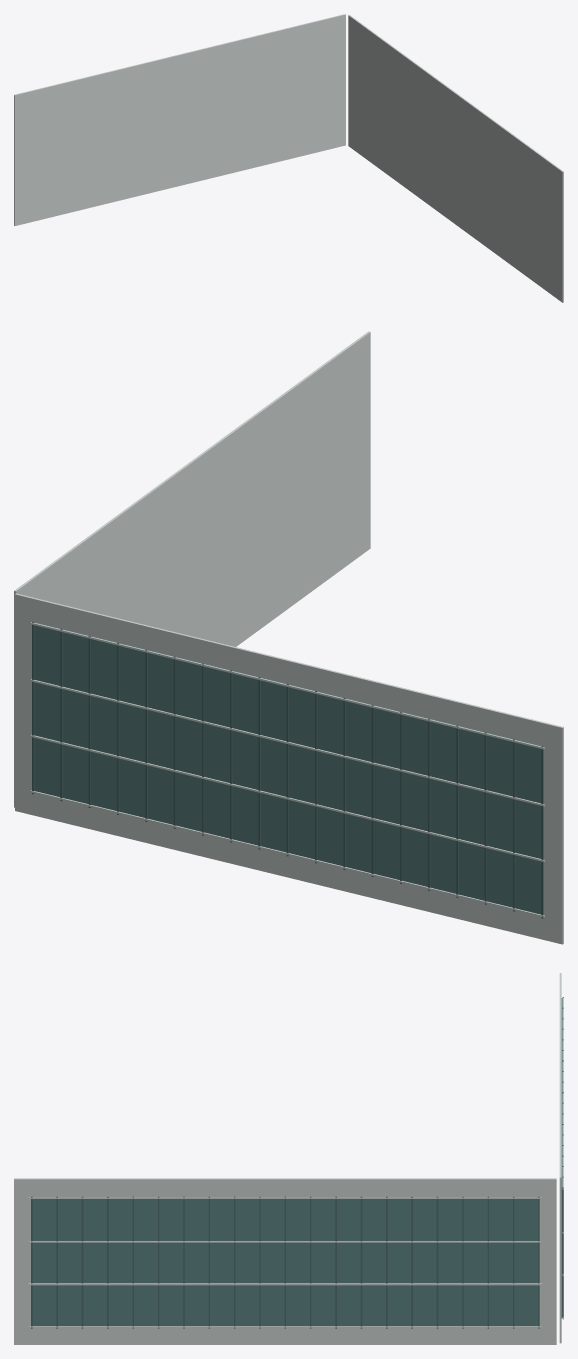
The model's file is ford-alumni-detail-2026-11-04.glb.
3 renders of one model, top to bottom at view 1: azimuth 30°, elevation 25°; view 2: azimuth 150°, elevation 25°; view 3: azimuth 270°, elevation 25°, orthographic. The views are drawn at different scales.
Parts seen in each view (by area): view 1: facade_000; view 2: facade_000; view 3: facade_000.
Part boxes in pixels (x1,y1,x2,y2): facade_000: (14,14,563,302); facade_000: (14,331,563,944); facade_000: (14,973,563,1344).
Size of the model in its own units: 40.2 by 15 by 45.11.
